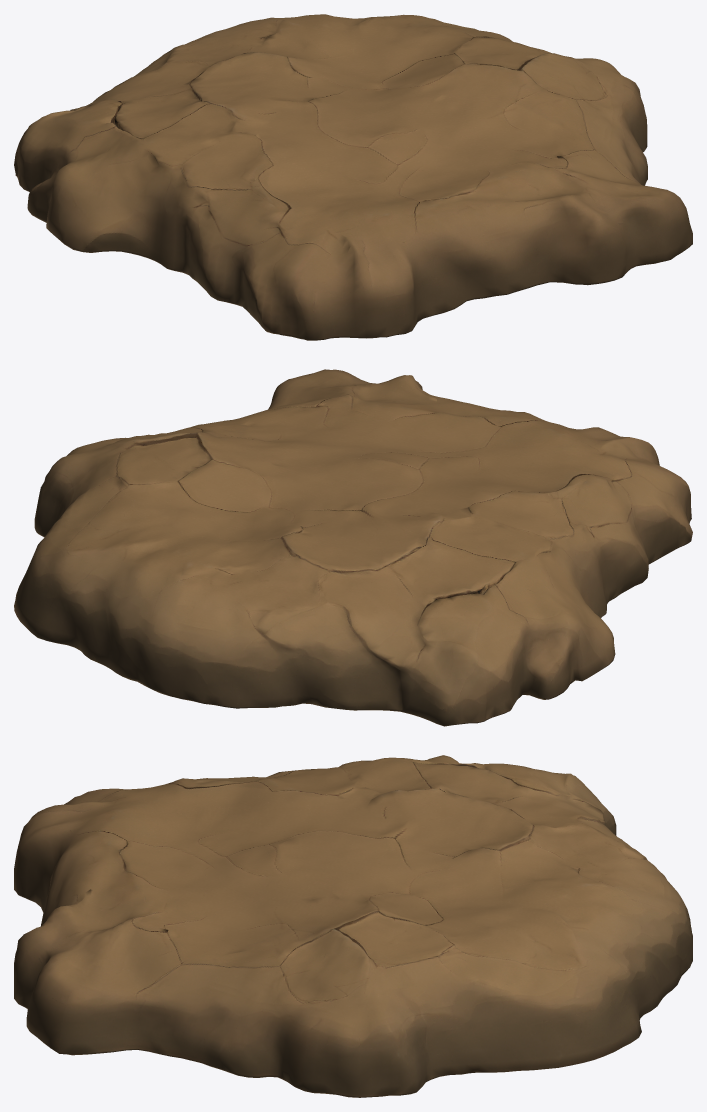
Rendered from island_3.glb.
3 views of the same model, one above another, from view 1: azimuth 30°, elevation 25°; view 2: azimuth 150°, elevation 25°; view 3: azimuth 270°, elevation 25° (orthographic). The views are drawn at different scales.
Bounding box in the file's own units: 1.91 × 0.3327 × 1.87.
Materials: 1 (1 with a texture image).
